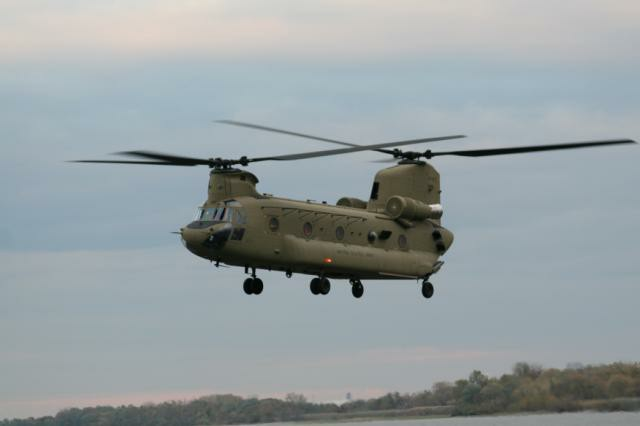chinook: (170, 142, 476, 313)
